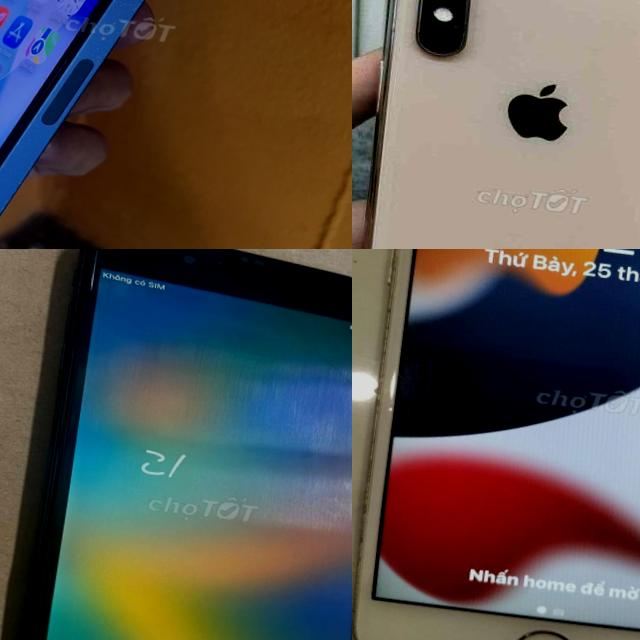gen_12_13: (0, 0, 270, 249)
gen_6: (352, 249, 640, 640)
gen_7_8: (2, 249, 352, 640)
gen_x_xs: (352, 0, 640, 249)
